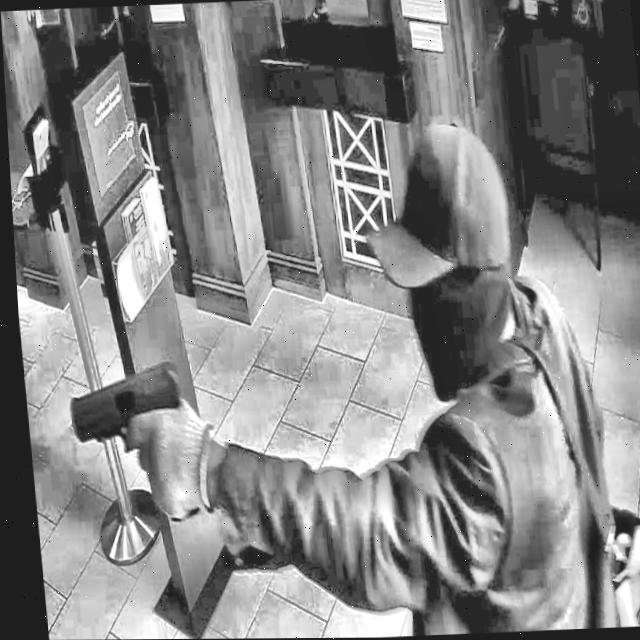pistol: (52, 334, 205, 535)
robbery: (31, 78, 640, 640)
